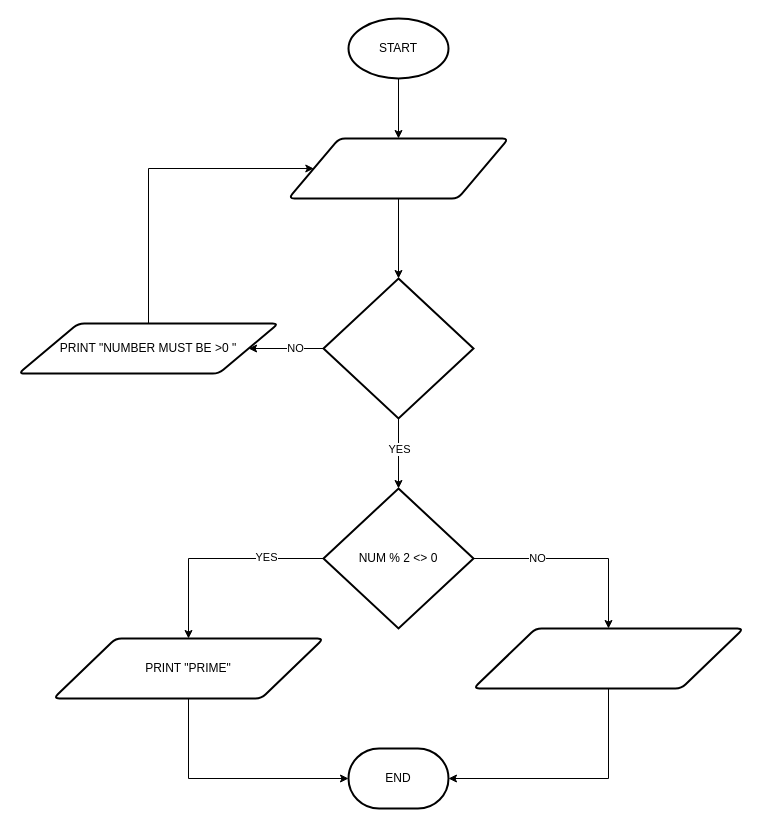
Image size: 761x826. Some labels were removed from this diagram. Each missing label, with the box of its shape:
NUM > 0: (322, 277, 474, 419)
PRINT "NOT PRIME": (472, 627, 744, 689)
READ NUM: (287, 137, 509, 199)
